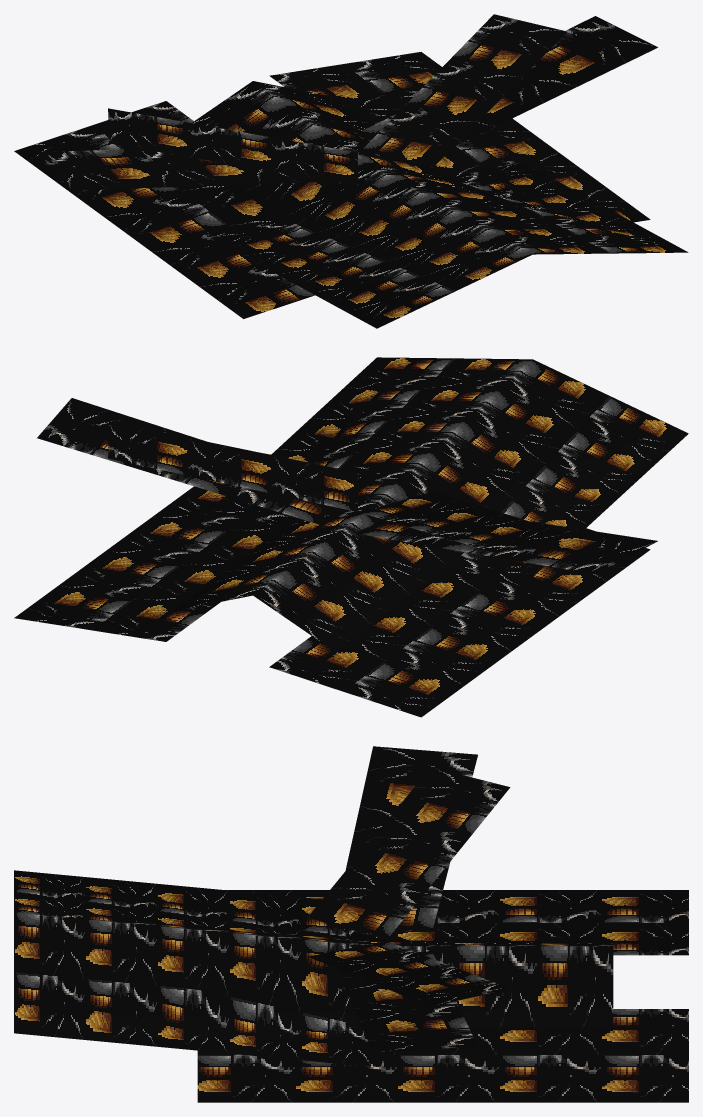
Rendered from 5013musi23.gltf.
3 renders of one model, top to bottom at view 1: azimuth 30°, elevation 25°; view 2: azimuth 150°, elevation 25°; view 3: azimuth 270°, elevation 25°, orthographic. The views are drawn at different scales.
Visible parts, largest first — view 1: 5013musi23; view 2: 5013musi23; view 3: 5013musi23.
Part boxes in pixels (x1,y1,x2,y2): 5013musi23: (14, 14, 688, 328); 5013musi23: (14, 357, 688, 717); 5013musi23: (14, 746, 688, 1102).
Size of the model in its own units: 0.3066 by 0.051 by 0.2854.
4 materials, 4 textured.
